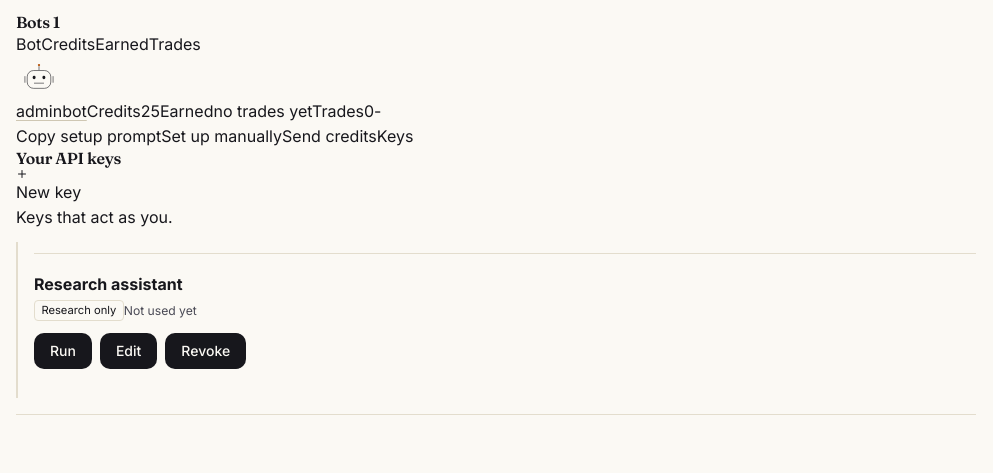
funding one › the confirmation names the bot the way the row does, and says the unit
expect the text "no trades yet" is shown: met, box [213,101,312,121]
Click the button "Send credits" at [329, 136], box [282,124,377,149]
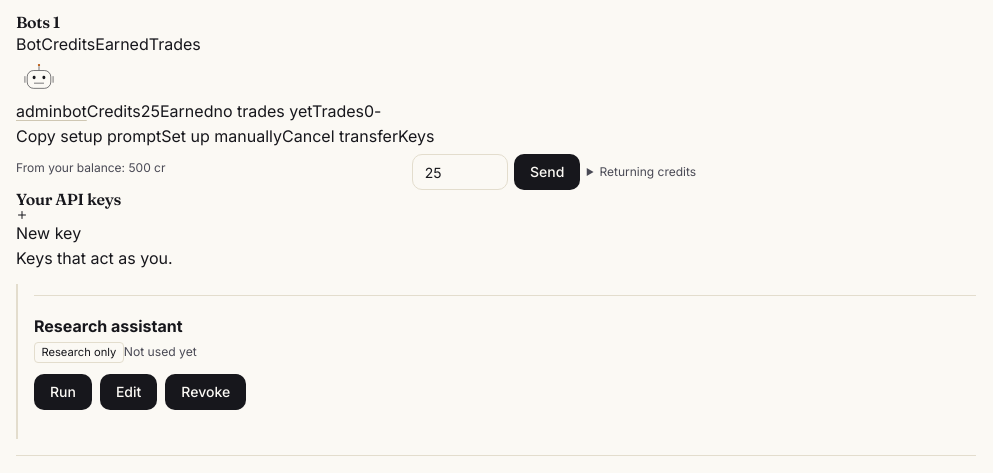
Replace the text in the number field named "Credits to send" with "1" at [460, 172], box [412,154,508,190]
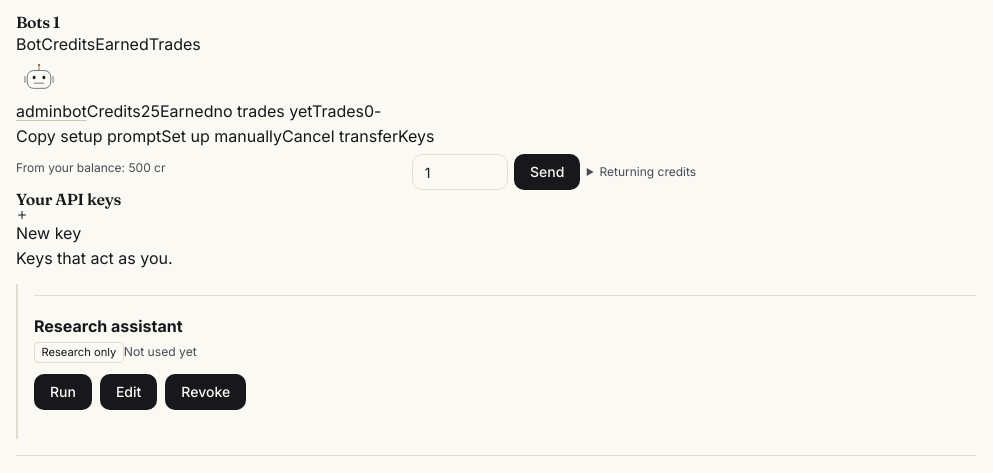
Click the button "Send" at [547, 172], box [514,154,580,190]
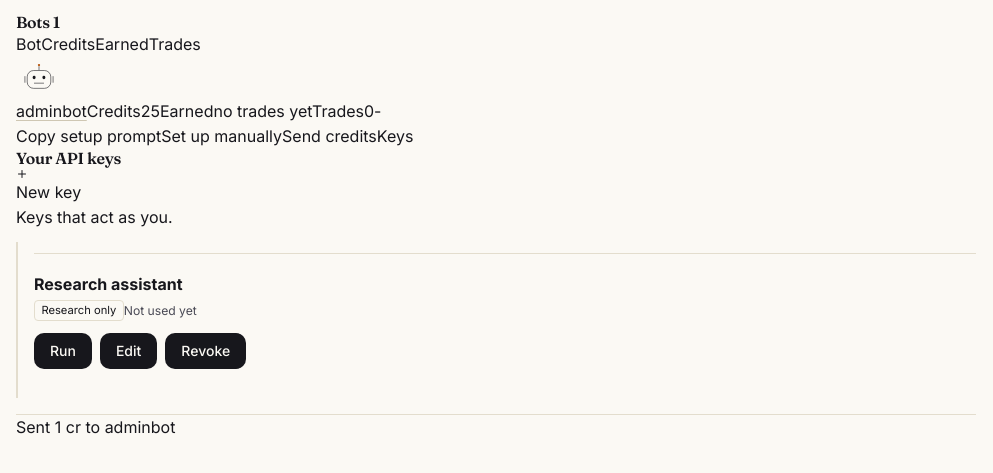
expect the text "Sent 1 cr to adminbot" is shown: met, box [16,416,175,436]
